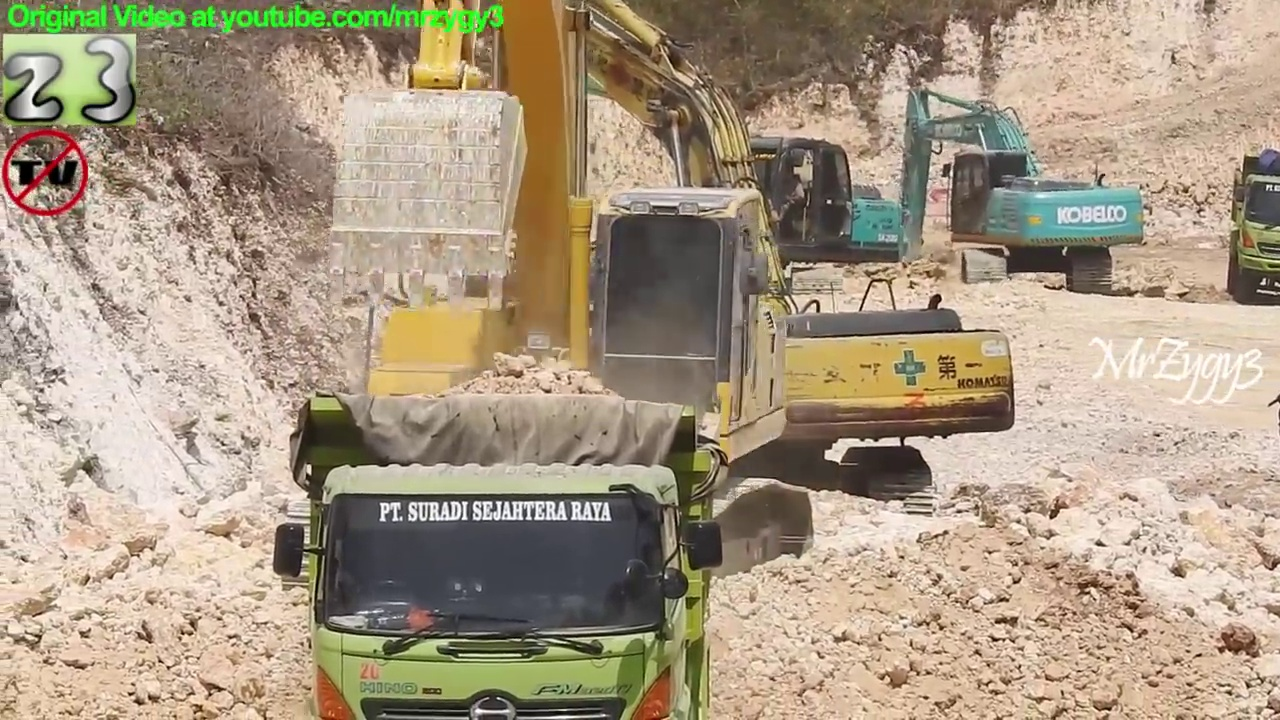excavator: (274, 1, 824, 610), (470, 1, 1026, 531), (436, 44, 917, 309), (871, 82, 1153, 298)
truck: (268, 385, 734, 720), (1222, 144, 1280, 311)
